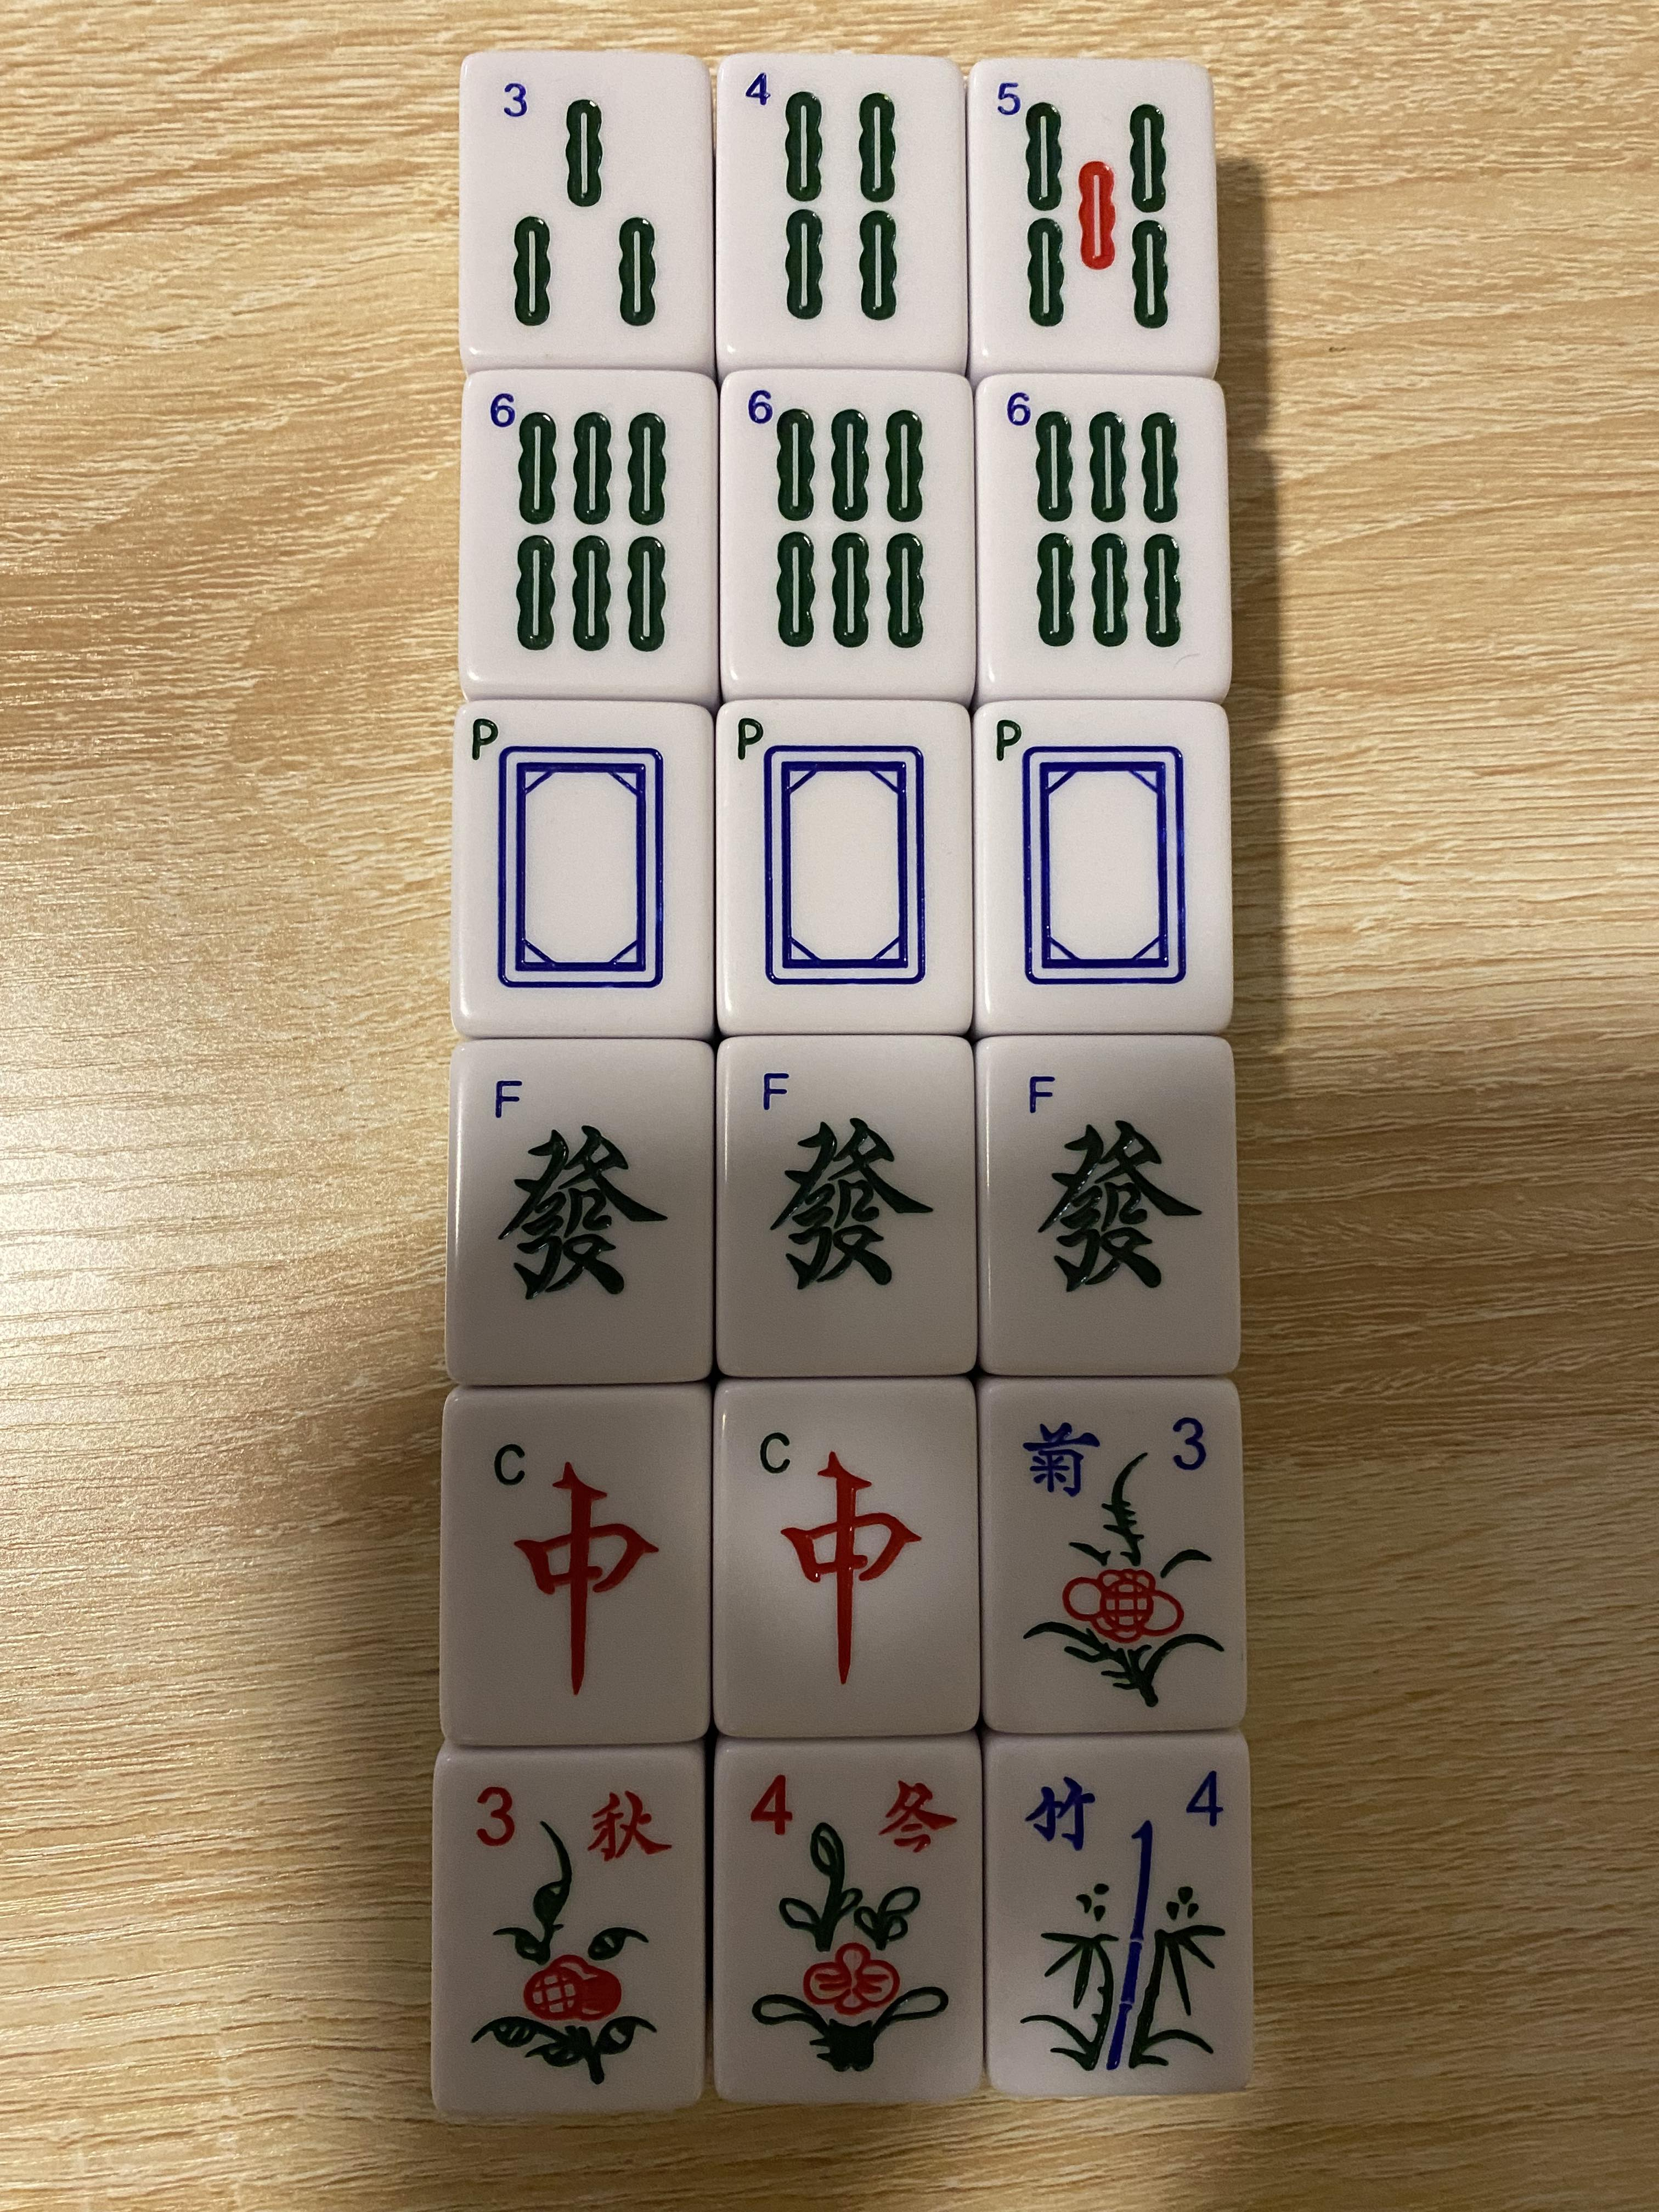bamboo-five: (967, 63, 1216, 366)
bamboo-four: (718, 57, 967, 369)
bamboo-six: (464, 374, 716, 698), (974, 373, 1223, 697), (721, 373, 972, 691)
bamboo-three: (462, 54, 706, 362)
flower-blue_four: (988, 1740, 1251, 2085)
flower-blue_three: (986, 1385, 1249, 1726)
flower-red_four: (713, 1743, 985, 2095)
flower-red_three: (437, 1757, 699, 2097)
honor-blue_dragon: (457, 702, 713, 1035), (714, 700, 971, 1028), (976, 702, 1229, 1029)
honor-green_dragon: (978, 1035, 1241, 1372), (450, 1043, 709, 1378), (716, 1040, 976, 1371)
honor-red_dragon: (713, 1385, 981, 1731), (444, 1393, 708, 1738)
